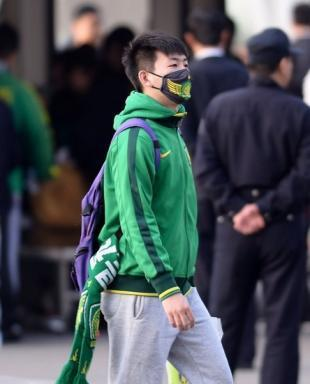OK: (149, 55, 196, 102)
